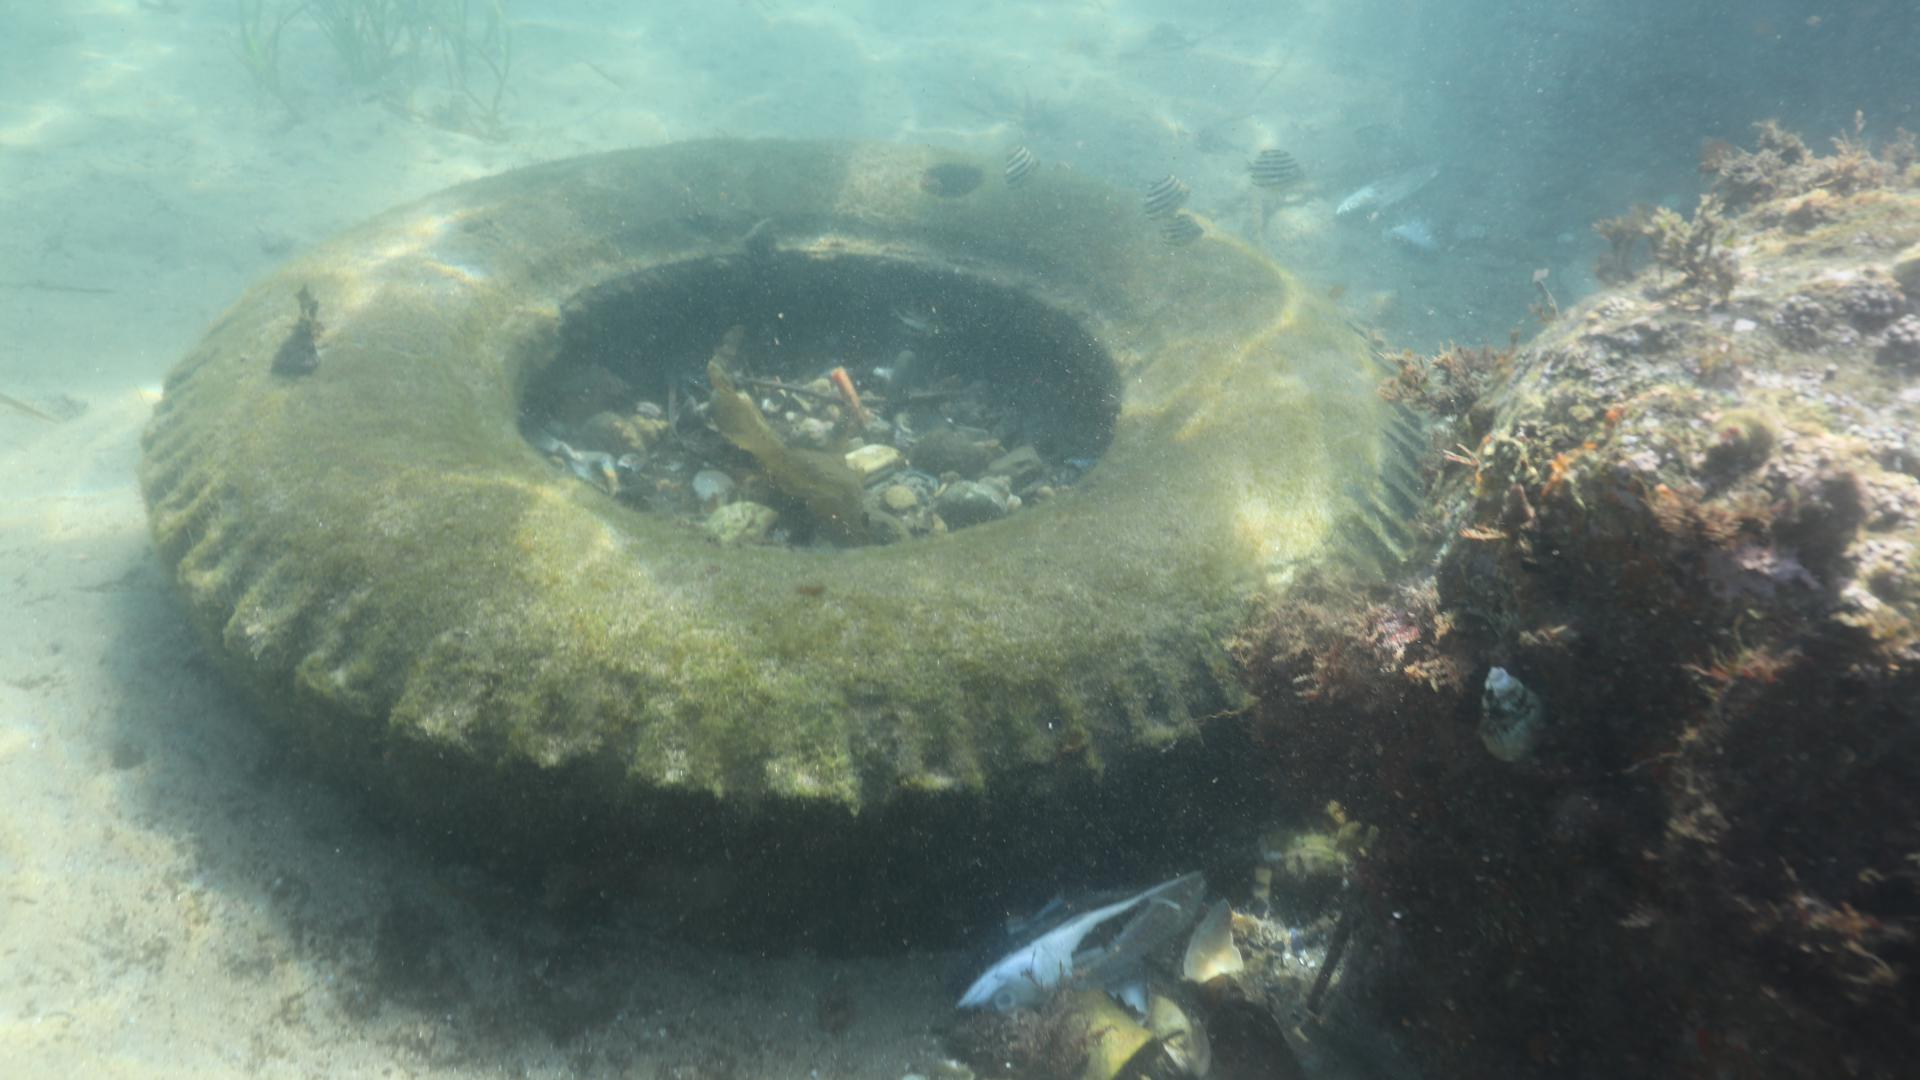tire: (137, 135, 1429, 961)
